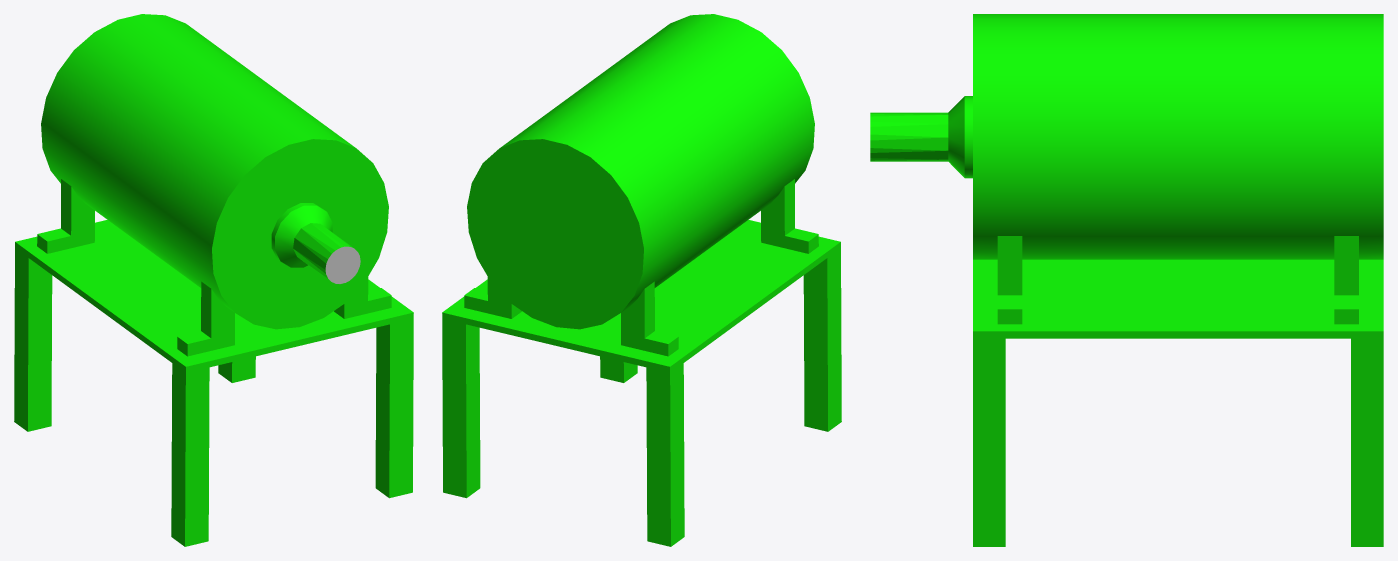
File: motor.obj
3 views of the same model, side by side, from view 1: azimuth 30°, elevation 25°; view 2: azimuth 150°, elevation 25°; view 3: azimuth 270°, elevation 25° (orthographic). The views are drawn at different scales.
Visible parts, largest first — view 1: ramme; view 2: ramme; view 3: ramme.
Boxes of the visible parts, x1,y1,x2,y2 form: ramme: (14,14,413,546); ramme: (442,14,841,546); ramme: (870,14,1383,546).
Size of the model in its own units: 19.33 by 30.52 by 31.24.
